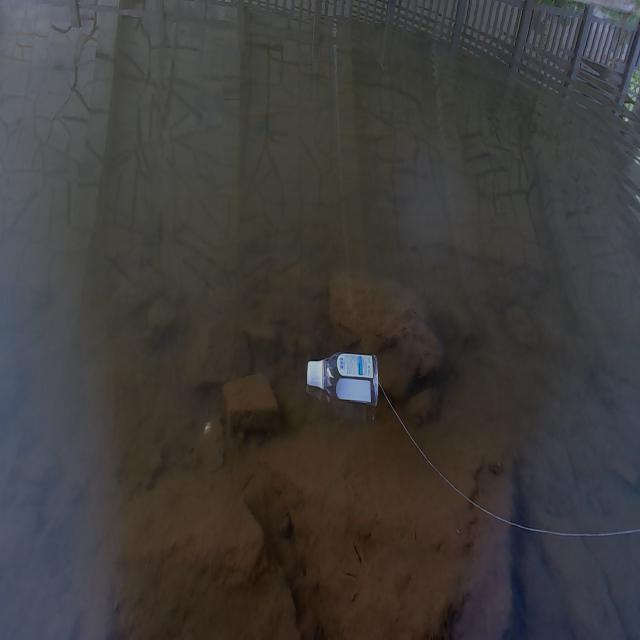bottle: (298, 346, 384, 408)
